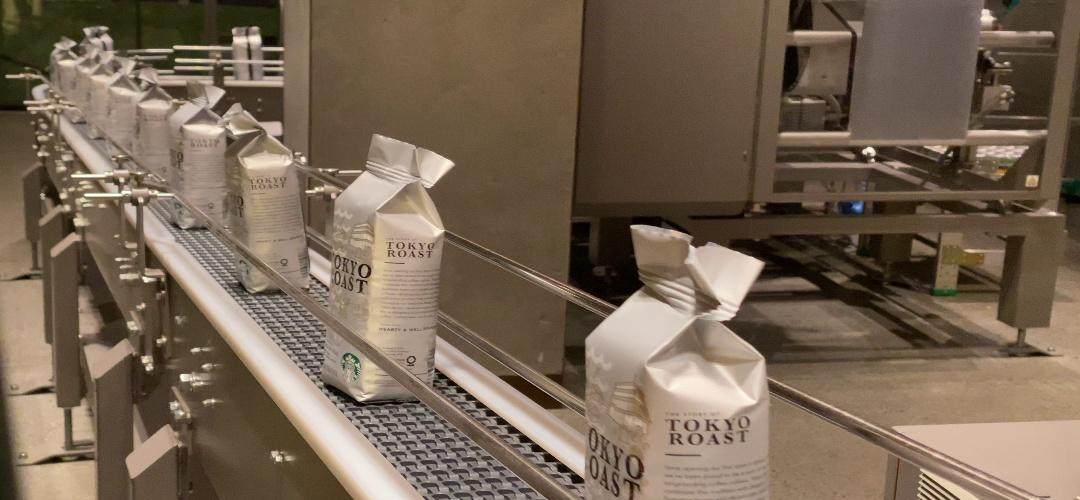conveyor: (583, 332, 771, 495), (332, 194, 439, 318), (226, 148, 302, 228)
